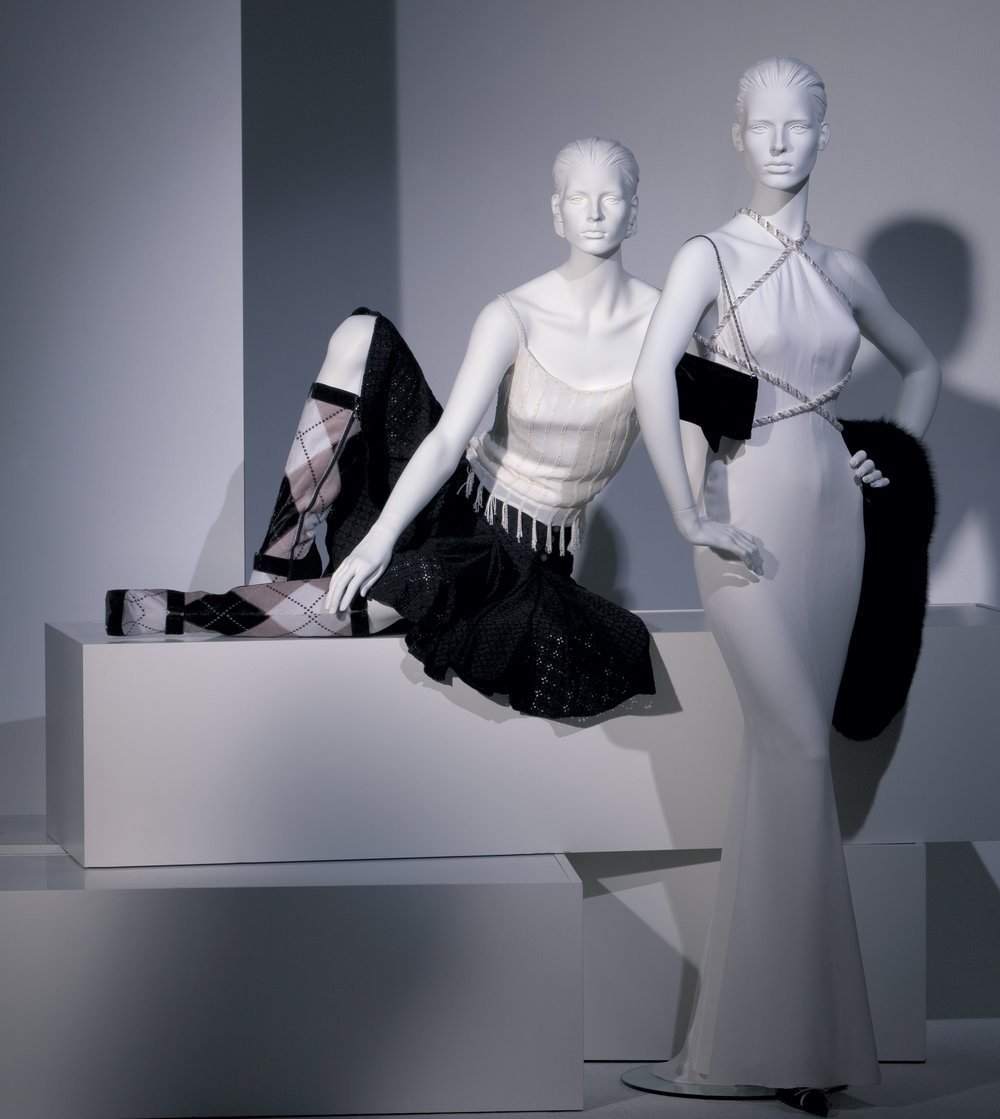person-like: (627, 41, 942, 1101), (242, 124, 708, 720)
